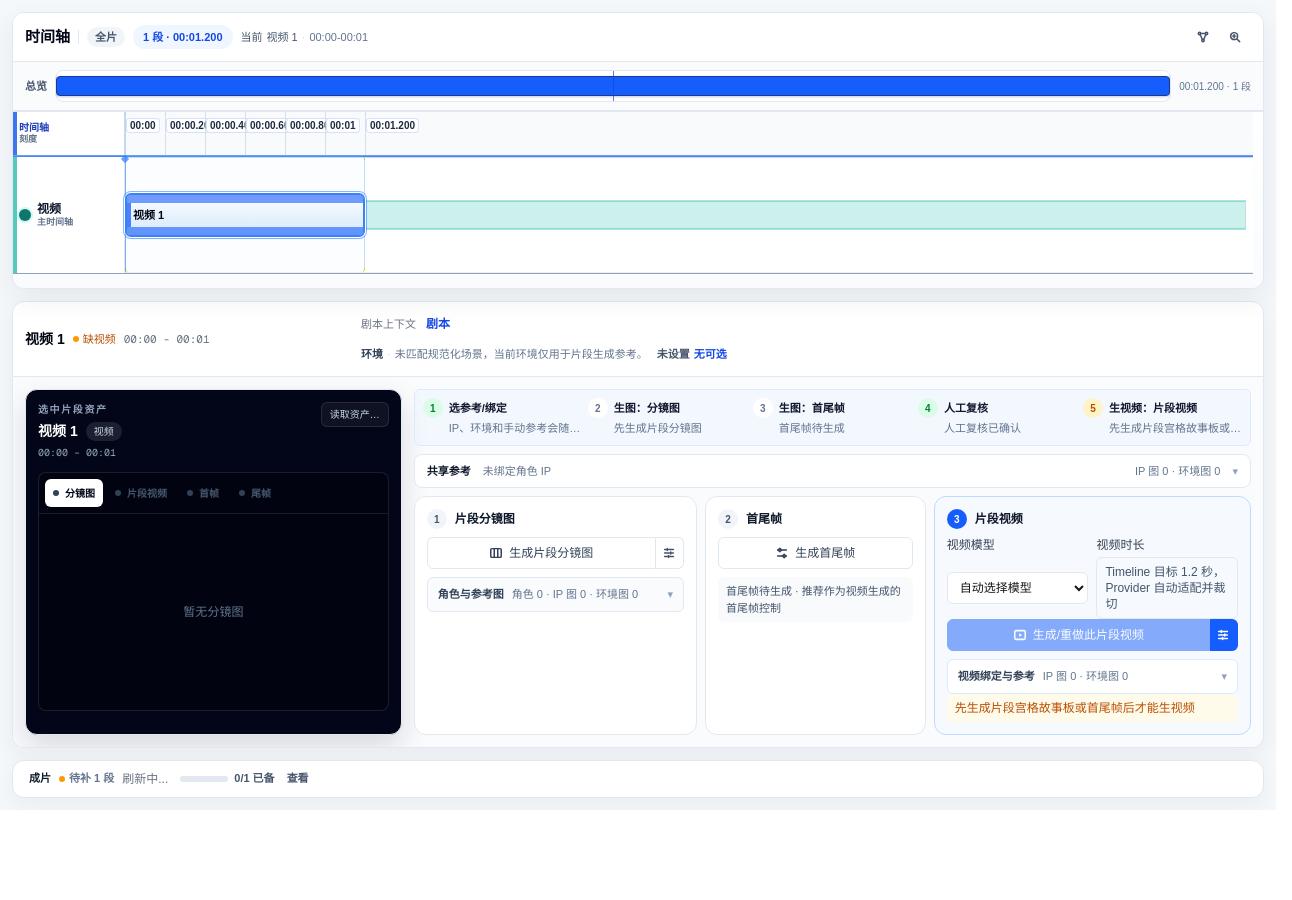
EpisodeTimelineWorkspace layout › keeps Timeline generation controls behind a compact setup affordance
The width and height of the screenshot is (1292, 900).
Expected: the 1st icon is shown, [1196, 30, 1210, 44]
Expected: the button "生成 Timeline" is not shown
Click the button named "Timeline 生成设置" at (1203, 37), box [1189, 23, 1217, 51]
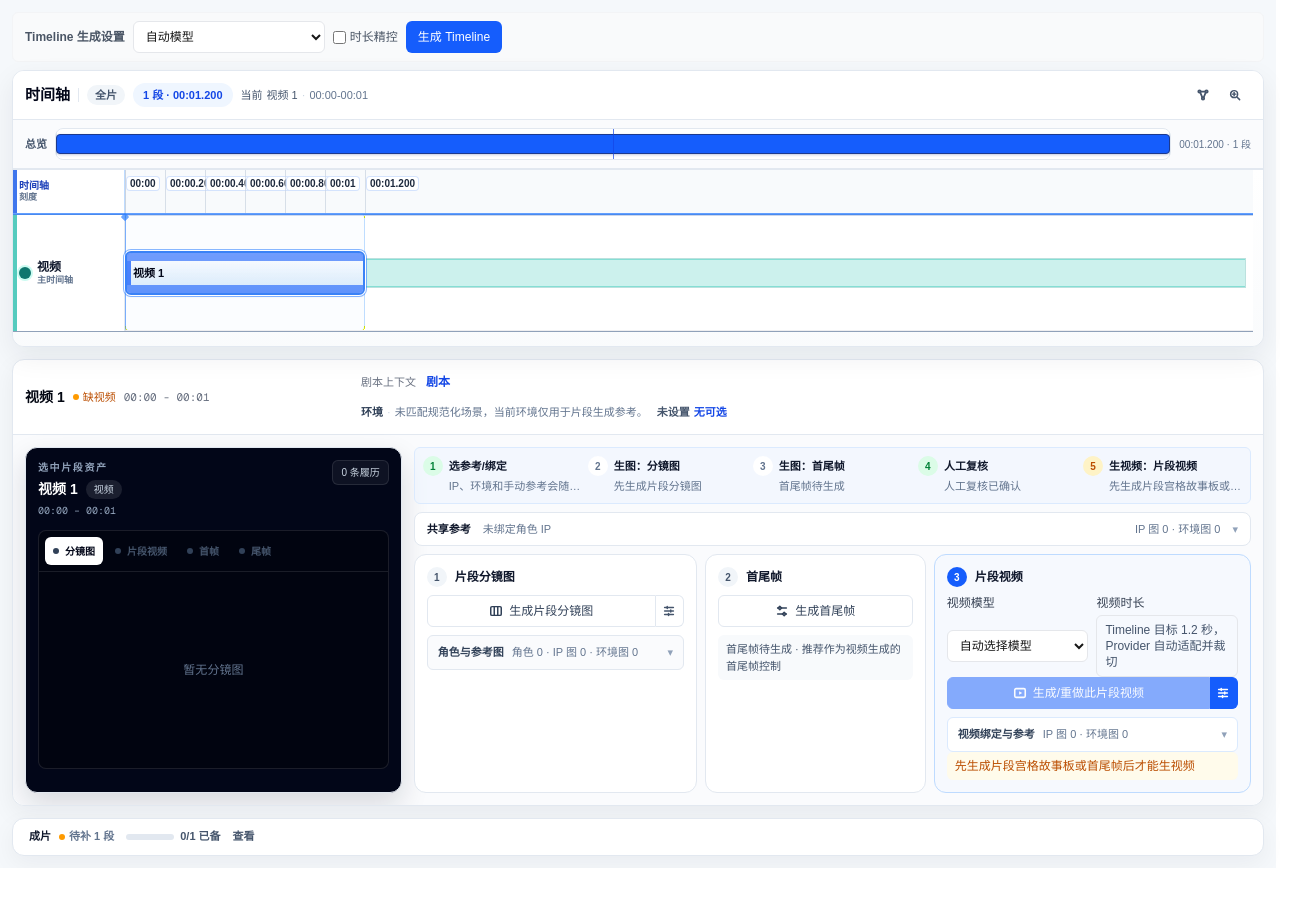
Expected: the button "生成 Timeline" is shown, [406, 21, 502, 53]
